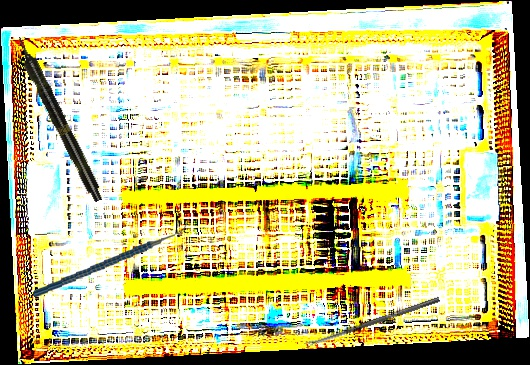Chopper: (28, 216, 195, 298)
Handpiece: (11, 33, 107, 205)
Surgical Spoon: (303, 296, 441, 348)
